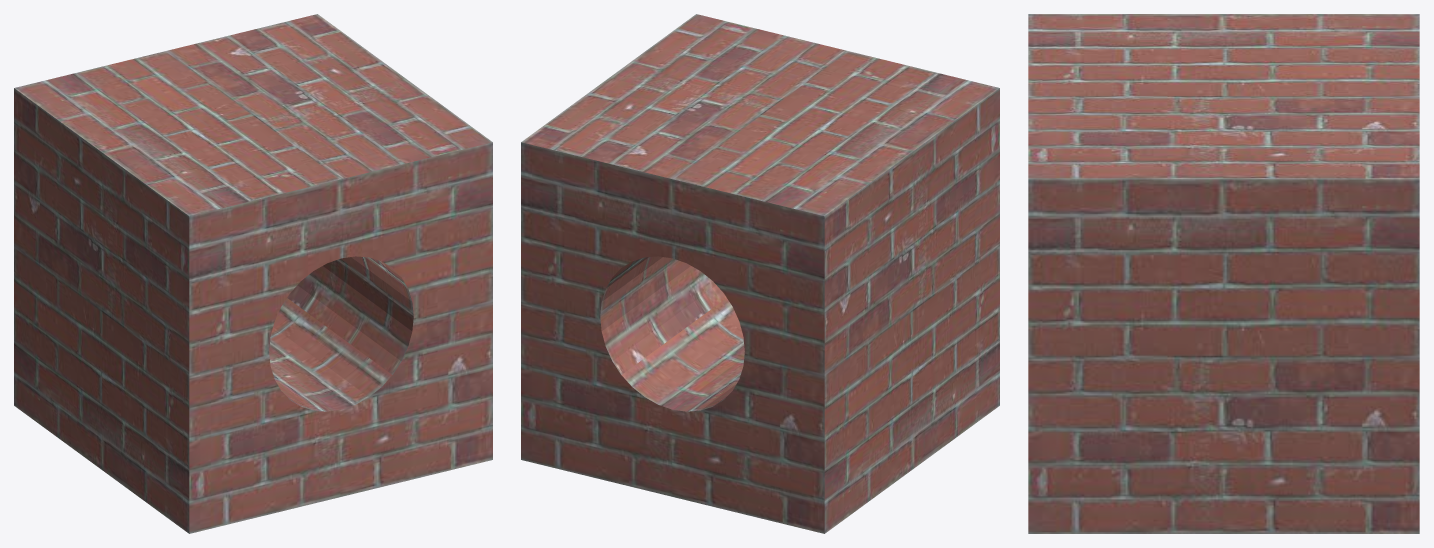
3 renders of one model, left to right at view 1: azimuth 30°, elevation 25°; view 2: azimuth 150°, elevation 25°; view 3: azimuth 270°, elevation 25°, orthographic. The views are drawn at different scales.
Visible parts, largest first — view 1: Cube; view 2: Cube; view 3: Cube.
Part boxes in pixels (x1=…): Cube: x1=14, y1=14, x2=492, y2=533; Cube: x1=521, y1=14, x2=999, y2=533; Cube: x1=1028, y1=14, x2=1419, y2=533.
Bounding box in the file's own units: 2 × 2 × 2.
Materials: 1 (1 with a texture image).
